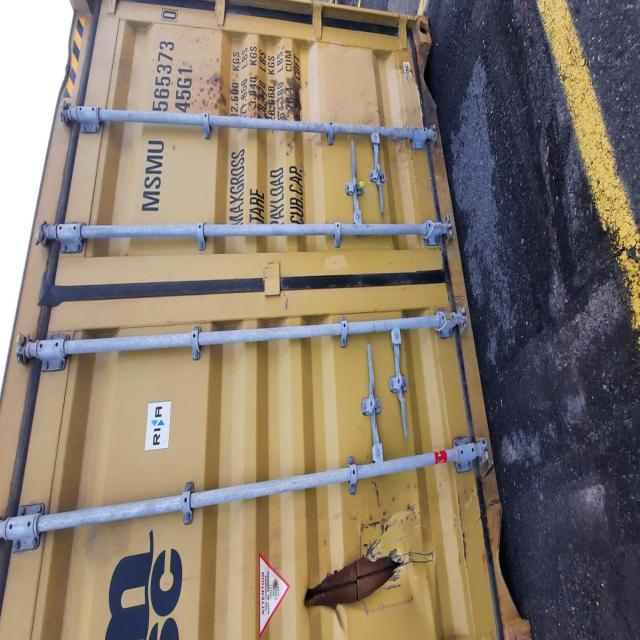hole: (304, 552, 401, 608)
